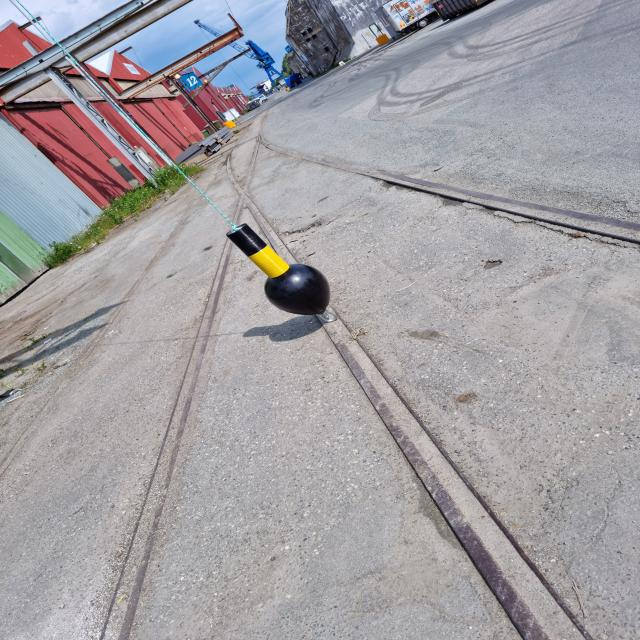east: (226, 223, 330, 315)
